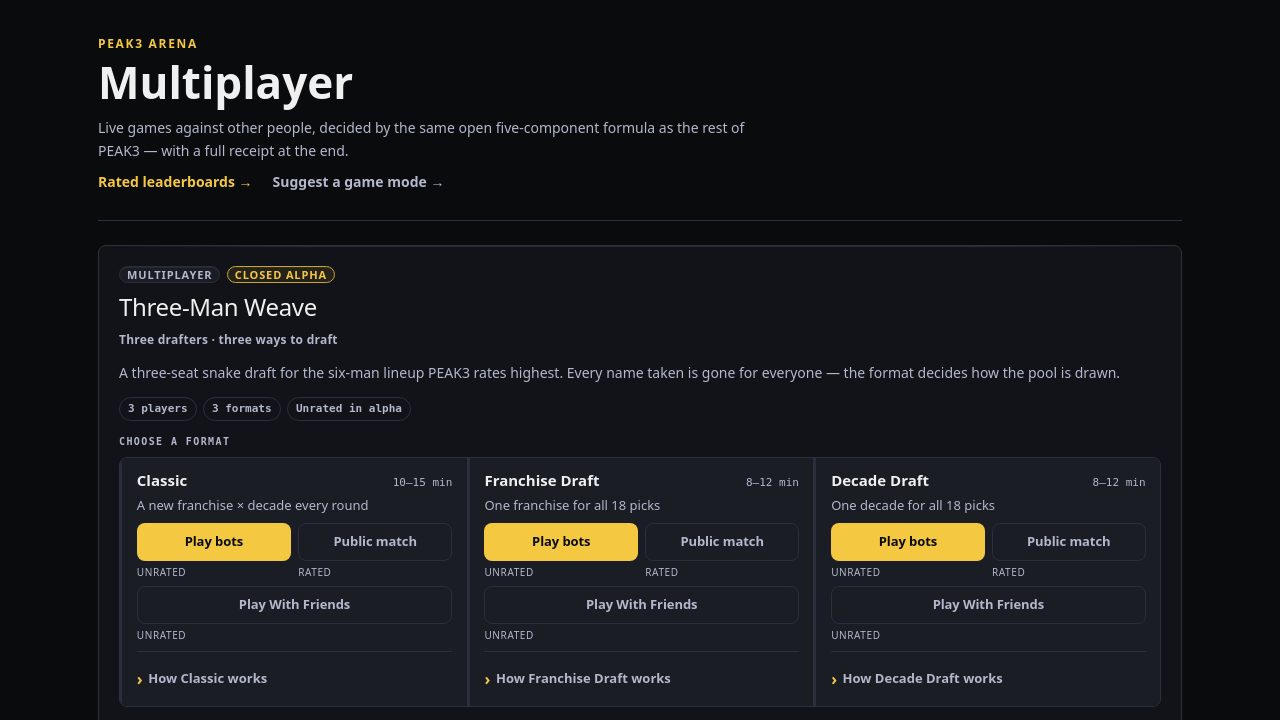
Test case: starting a game › shows a polished queue state with seats, countdown and a progress bar
The width and height of the screenshot is (1280, 720).
Step 1. Click the button with test id "lobby-three_man_weave-public_queue" → [375, 542], box [298,523,452,561]
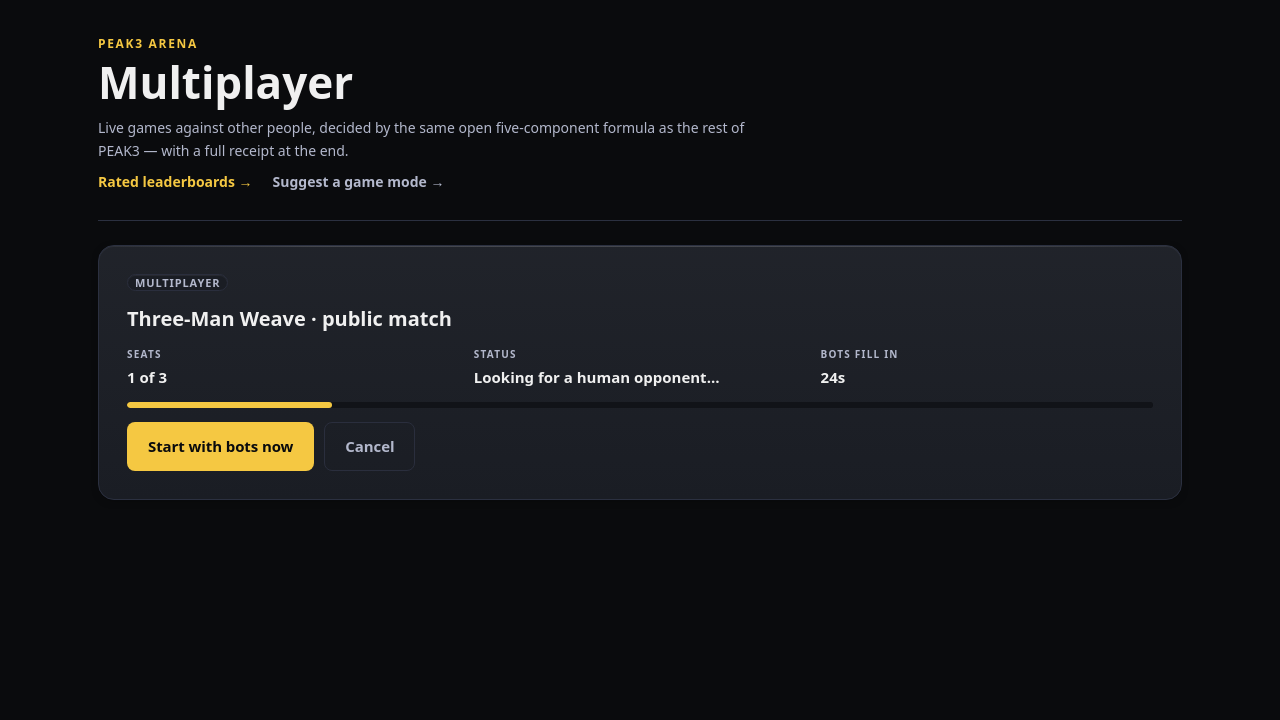
Expected: the element with test id "lobby-searching" shows "Three-Man Weave", [127,305,306,332]
Expected: the text with test id "lobby-queue-seats" reads "1 of 3", [127,367,167,387]
Expected: the text with test id "lobby-search-label" shows "Looking for a human", [474,367,720,387]
